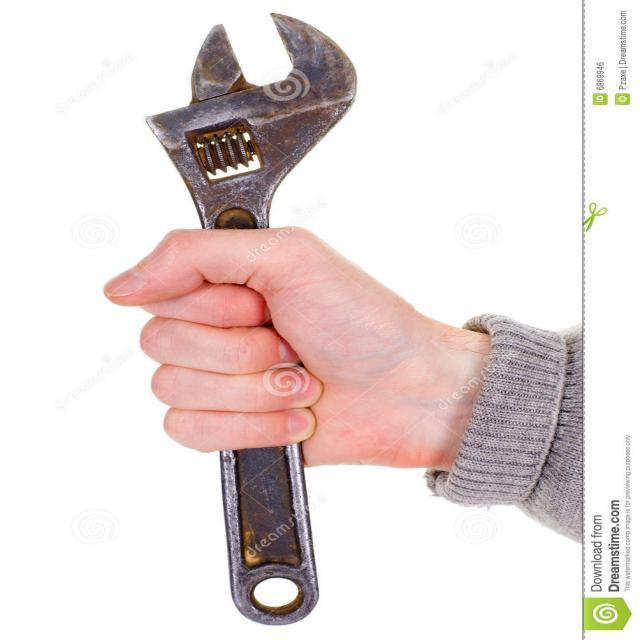wrench: (140, 7, 366, 631)
